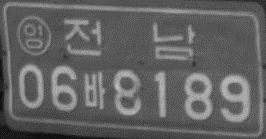0: (18, 63, 45, 108)
1: (146, 70, 176, 118)
6: (50, 65, 78, 113)
8: (112, 68, 143, 117), (183, 72, 213, 120)
9: (219, 74, 251, 123)
바: (83, 70, 106, 111)
영: (14, 15, 52, 56)
전남_D: (62, 17, 195, 62)
